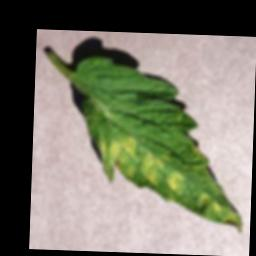Leaf_Mold: (88, 130, 249, 235)
